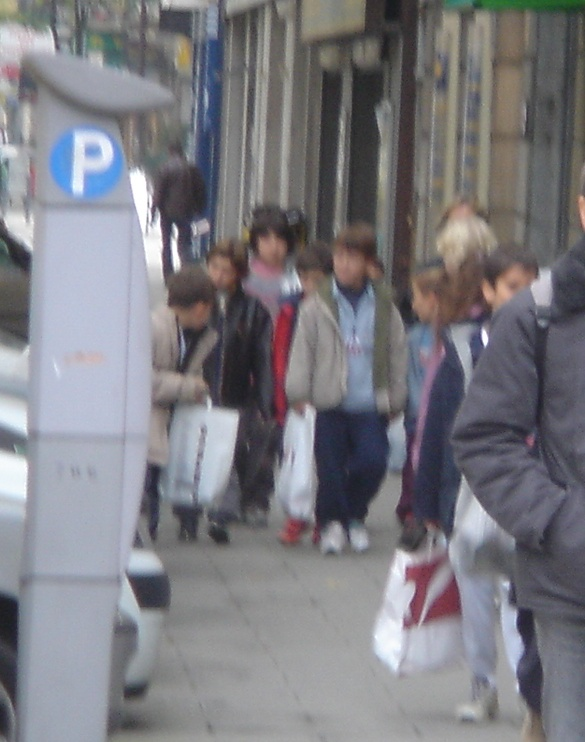person: (183, 231, 270, 542)
